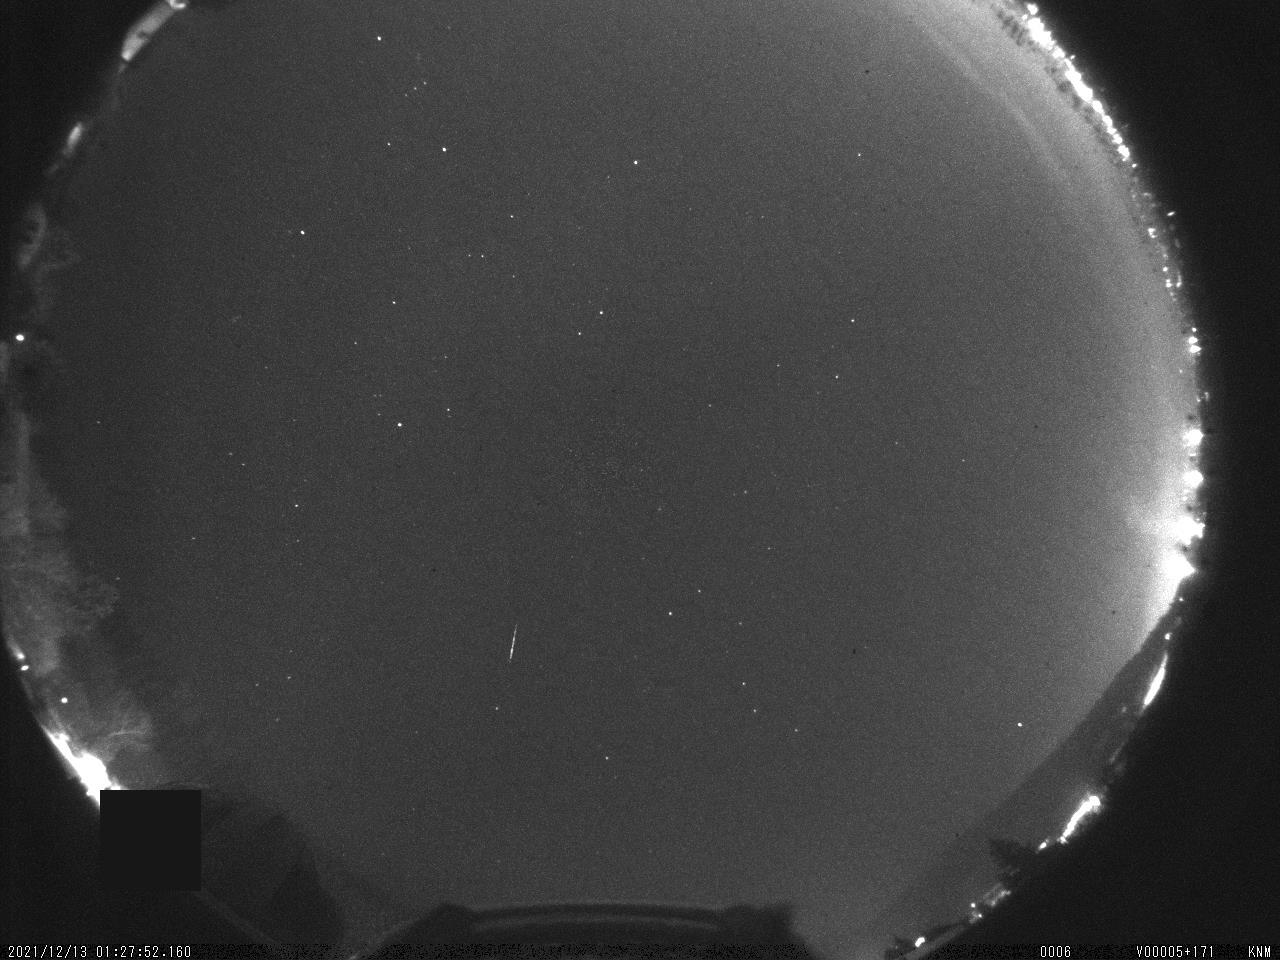meteor: (491, 611, 536, 669)
